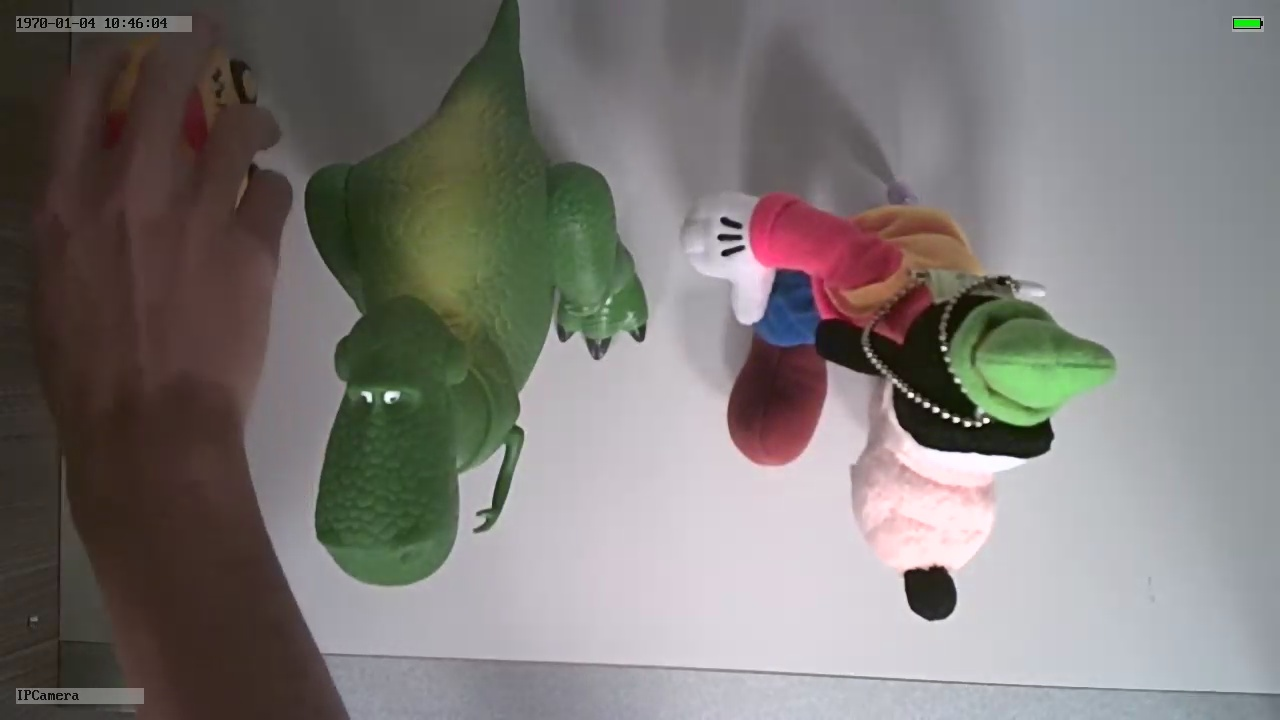goofy: (674, 181, 1119, 626)
rex: (303, 73, 647, 586)
